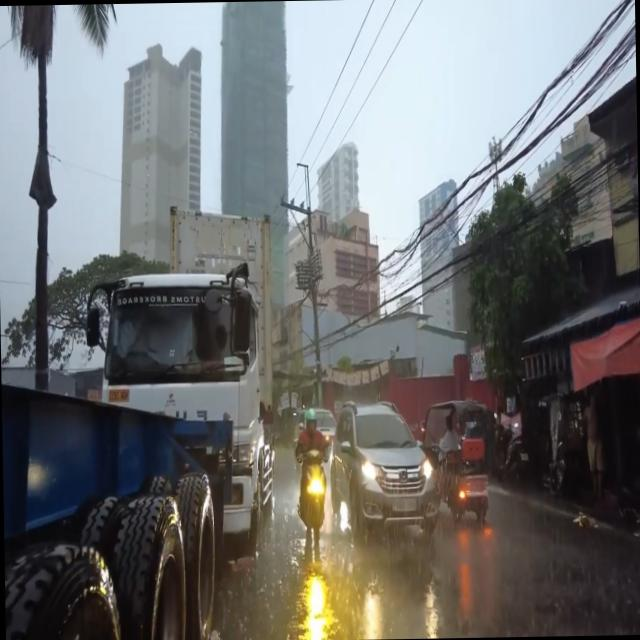half: (304, 407, 318, 436)
